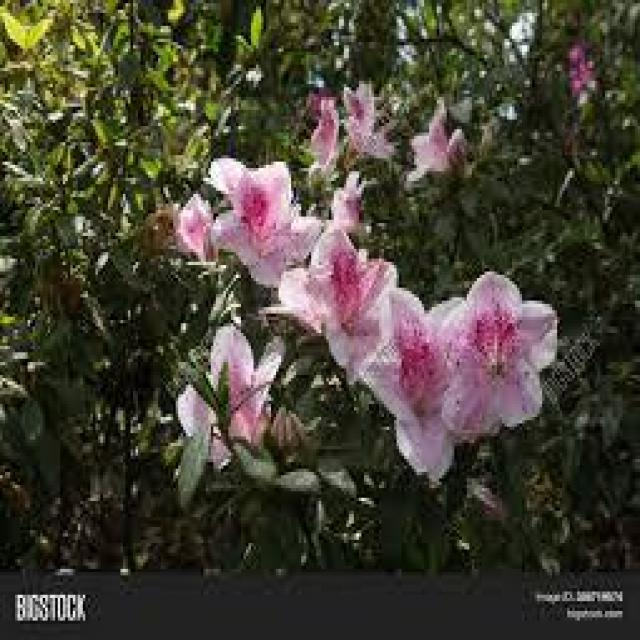organic waste: (419, 266, 570, 448), (282, 221, 413, 393), (365, 289, 476, 467), (185, 150, 318, 290), (175, 315, 282, 483), (396, 103, 469, 191), (340, 78, 378, 148)
